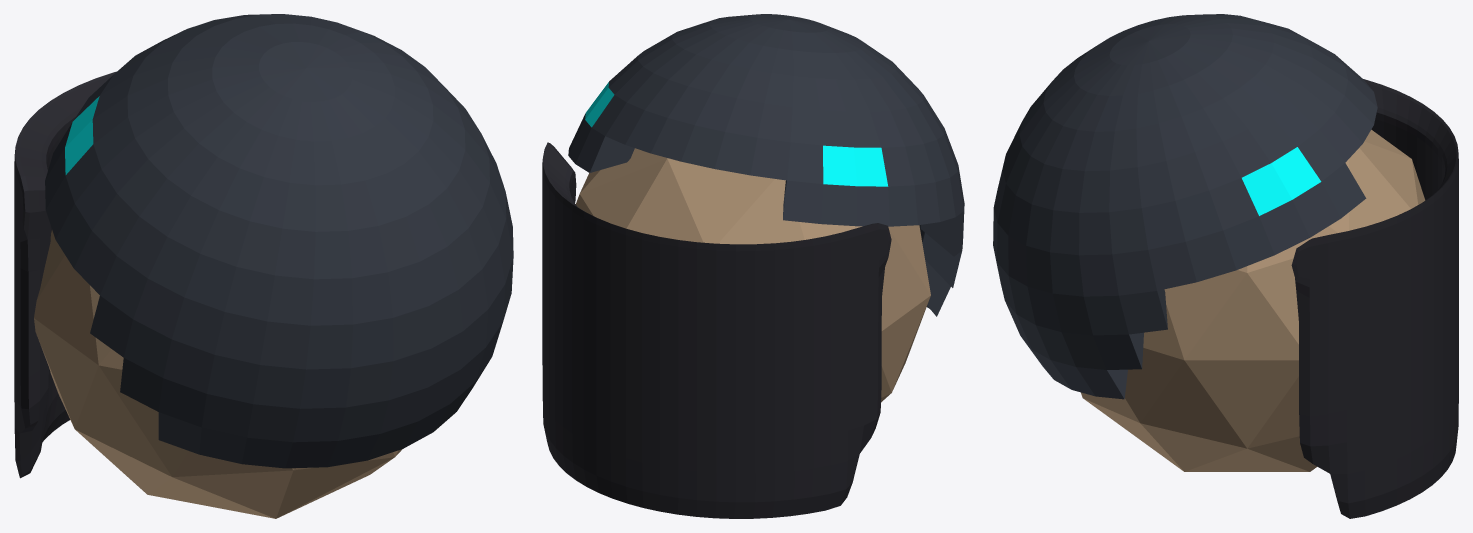
File: Player.fbx
3 renders of one model, left to right at view 1: azimuth 30°, elevation 25°; view 2: azimuth 150°, elevation 25°; view 3: azimuth 270°, elevation 25°, orthographic. The views are drawn at different scales.
Parts seen in each view (by area): view 1: Sphere, Icosphere, Cylinder.001, Sphere.001; view 2: Cylinder.001, Sphere, Icosphere, Sphere.001; view 3: Sphere, Cylinder.001, Icosphere, Sphere.001.
Part boxes in pixels (box(x1,y1,x2,y2)): Sphere: box(45, 14, 513, 468); Icosphere: box(34, 230, 402, 518); Cylinder.001: box(14, 71, 116, 478); Sphere.001: box(65, 96, 99, 174); Cylinder.001: box(542, 142, 891, 518); Sphere: box(568, 14, 964, 316); Icosphere: box(575, 148, 930, 402); Sphere.001: box(585, 82, 888, 186); Sphere: box(993, 14, 1377, 399); Cylinder.001: box(1291, 79, 1458, 518); Icosphere: box(1081, 129, 1425, 471); Sphere.001: box(1242, 147, 1321, 215).
Size of the model in its own units: 208 by 233 by 229.
